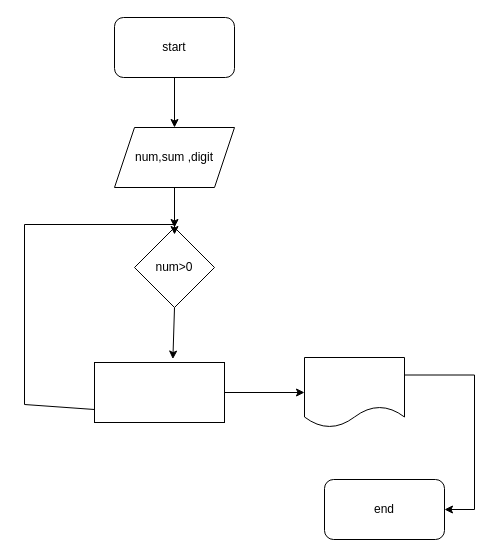
This 500x557 diagram has some shape labels left out. Here are the shapes that lost their labels. From the top down, the box of each, then its label:
(94, 362, 224, 422): digit =num%10 sum=sum+digit num=num/10
(304, 356, 404, 428): sum
